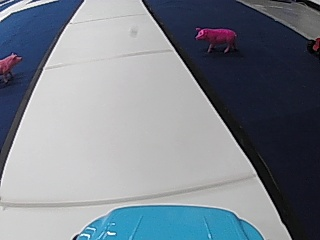pig: (191, 23, 238, 54), (0, 51, 22, 83)
